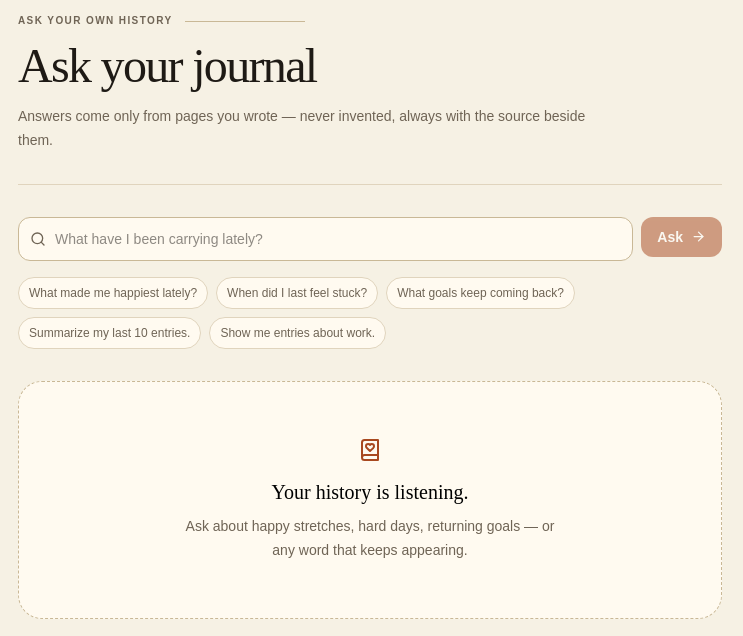
Test: Ask My Journal › handles no matches honestly
The image size is (743, 636).
Type "zzz-nothing here" into the field with test id "ask-input" at (326, 239), box [18,217,633,261]
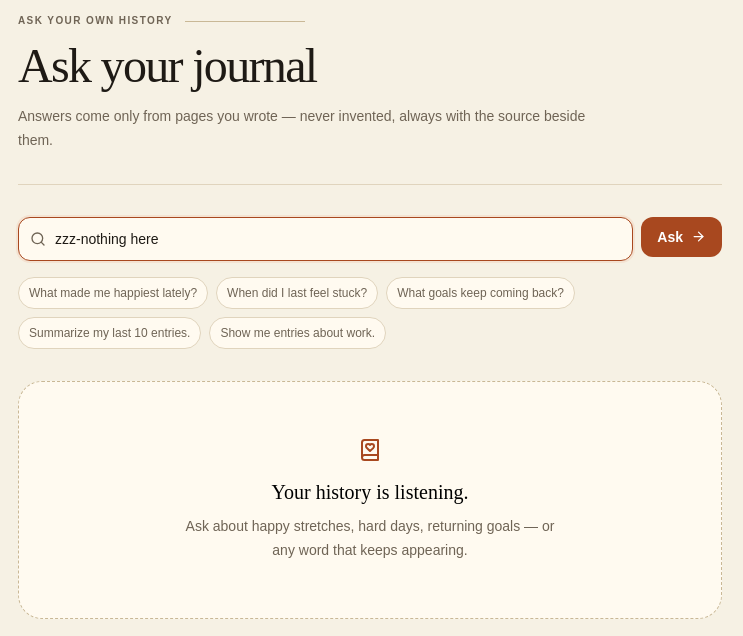
Click the button with test id "ask-submit-button" at (682, 237), box [641,217,722,257]
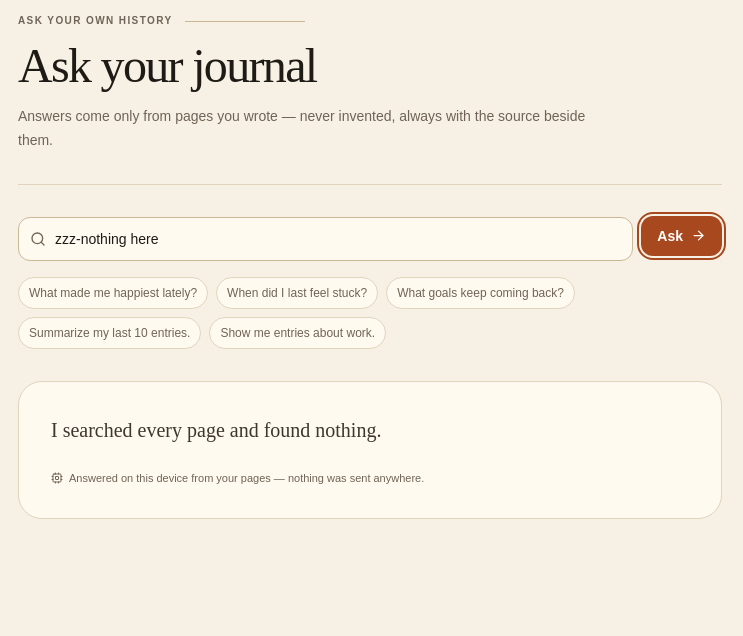
Result: the element with test id "ask-answer-card" is shown at [18,381,722,519]
Result: the text with test id "ask-answer" shows "found nothing" at [51,419,381,441]
